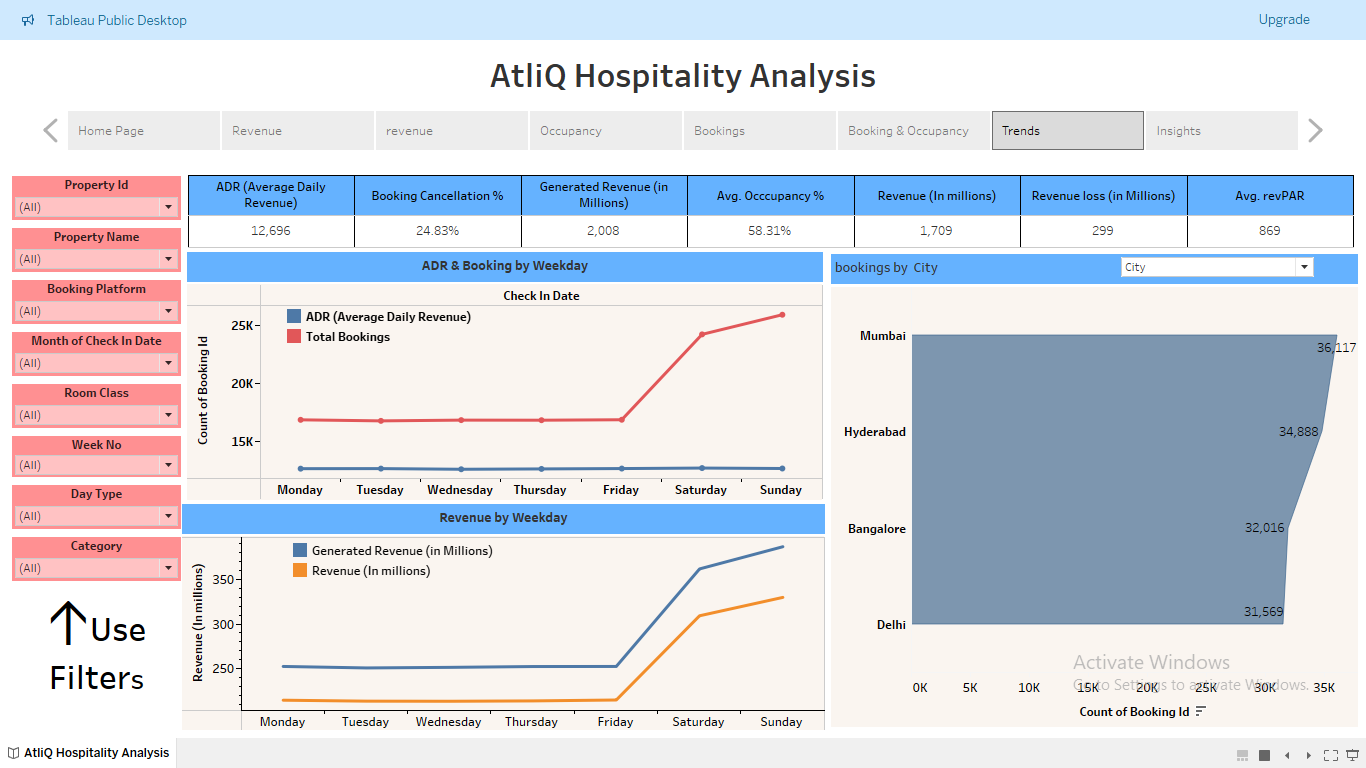

The page's visual inventory and layout, read from the dashboard file:
{"tool":"tableau","page":{"name":"Trends ","canvas":[1000,1000],"units":"permille","ordinal":6},"visuals":[{"type":"filter","title":"Revenue KPIs ","param":"[federated.0dyipxl0d44t2k19o4wil0eqguqx].[none:property_id:ok]","box":[0,3.6,131.1,94.2]},{"type":"worksheet","title":"Revenue KPIs ","mark":"Automatic","box":[133.3,9.1,863.7,130.4]},{"type":"filter","title":"Revenue KPIs ","param":"[federated.0dyipxl0d44t2k19o4wil0eqguqx].[none:property_name:nk]","box":[0,97.8,131.1,94.2]},{"type":"worksheet","title":"Booking by Weekday","mark":"Line","rows":["booking_id","Calculation_1060597729879511040"],"cols":["check_in_date"],"box":[132.6,146.7,471.3,442]},{"type":"worksheet","title":"bookings by ","mark":"Area","rows":["Calculation_780811602311200769"],"cols":["booking_id"],"box":[609.4,150.4,390.6,844.2]},{"type":"parameter","param":"[Parameters].[Parameter 2]","box":[822.4,150.4,147.1,54.4]},{"type":"filter","title":"Revenue KPIs ","param":"[federated.0dyipxl0d44t2k19o4wil0eqguqx].[none:booking_platform:nk]","box":[0,192,131.1,94.2]},{"type":"legend","title":"Booking by Weekday","param":"[federated.0dyipxl0d44t2k19o4wil0eqguqx].[:Measure Names]","box":[204.1,242.8,180.6,105.1]},{"type":"filter","title":"Revenue KPIs ","param":"[federated.0dyipxl0d44t2k19o4wil0eqguqx].[mn:check_in_date:ok]","box":[0,286.2,131.1,94.2]},{"type":"filter","title":"Revenue KPIs ","param":"[federated.0dyipxl0d44t2k19o4wil0eqguqx].[none:room_class:nk]","box":[0,380.4,131.1,94.2]},{"type":"filter","title":"Revenue KPIs ","param":"[federated.0dyipxl0d44t2k19o4wil0eqguqx].[none:week no:nk]","box":[0,474.6,131.1,88.8]},{"type":"filter","title":"Revenue KPIs ","param":"[federated.0dyipxl0d44t2k19o4wil0eqguqx].[none:day_type:nk]","box":[0,563.4,131.1,94.2]},{"type":"worksheet","title":"Revenue by Weekday","mark":"Line","rows":["Calculation_1197394568631709697","Calculation_1197394568632344578"],"cols":["check_in_date"],"box":[128.9,596,476,407.6]},{"type":"filter","title":"Revenue KPIs ","param":"[federated.0dyipxl0d44t2k19o4wil0eqguqx].[none:category:nk]","box":[0,657.6,131.1,94.2]},{"type":"legend","title":"Revenue by Weekday","param":"[federated.0dyipxl0d44t2k19o4wil0eqguqx].[:Measure Names]","box":[208.8,661.2,191,105.1]},{"type":"text","box":[0,751.8,131.1,213.8]}]}

Visuals, with their boxes on the dashboard's canvas, which has no fixed pixel size, in thousandths of its width and height (x1, y1, x2, y2). These are canvas units, not pixel positions in the 1366x768 screenshot, which may show the page scaled, cropped or inside an application window:
"Revenue KPIs " filter: select_region(0, 4, 131, 98)
"Revenue KPIs " worksheet: select_region(133, 9, 997, 140)
"Revenue KPIs " filter: select_region(0, 98, 131, 192)
"Booking by Weekday" worksheet (Line marks): select_region(133, 147, 604, 589)
"bookings by " worksheet (Area marks): select_region(609, 150, 1000, 995)
parameter: select_region(822, 150, 970, 205)
"Revenue KPIs " filter: select_region(0, 192, 131, 286)
"Booking by Weekday" legend: select_region(204, 243, 385, 348)
"Revenue KPIs " filter: select_region(0, 286, 131, 380)
"Revenue KPIs " filter: select_region(0, 380, 131, 475)
"Revenue KPIs " filter: select_region(0, 475, 131, 563)
"Revenue KPIs " filter: select_region(0, 563, 131, 658)
"Revenue by Weekday" worksheet (Line marks): select_region(129, 596, 605, 1004)
"Revenue KPIs " filter: select_region(0, 658, 131, 752)
"Revenue by Weekday" legend: select_region(209, 661, 400, 766)
text: select_region(0, 752, 131, 966)
